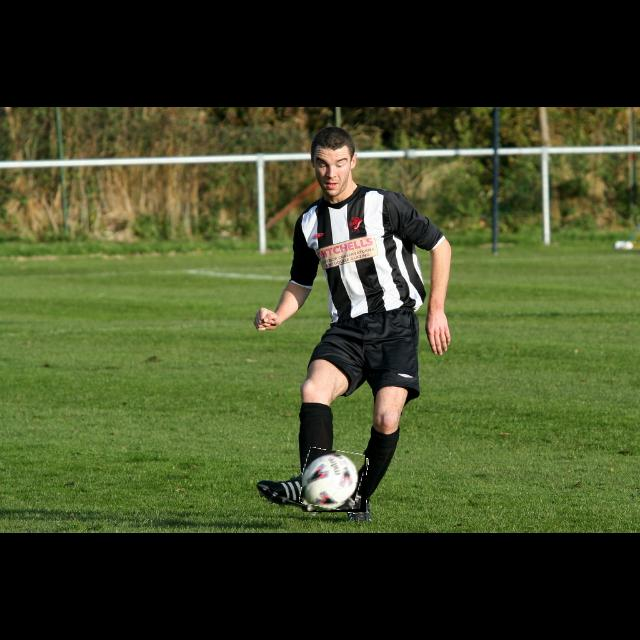Football: (302, 450, 366, 512)
